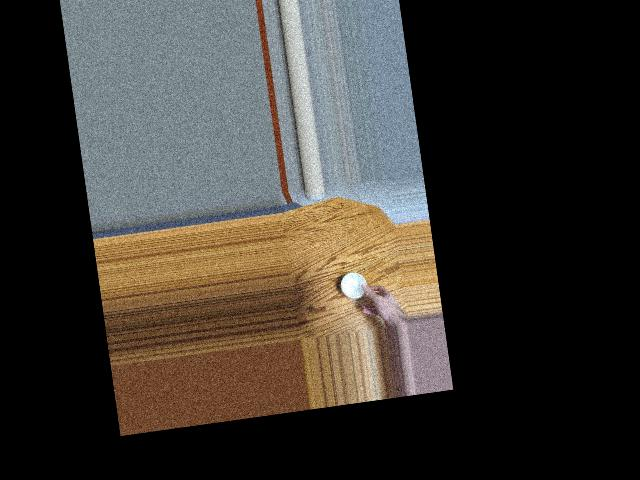cotage: (338, 268, 369, 299)
